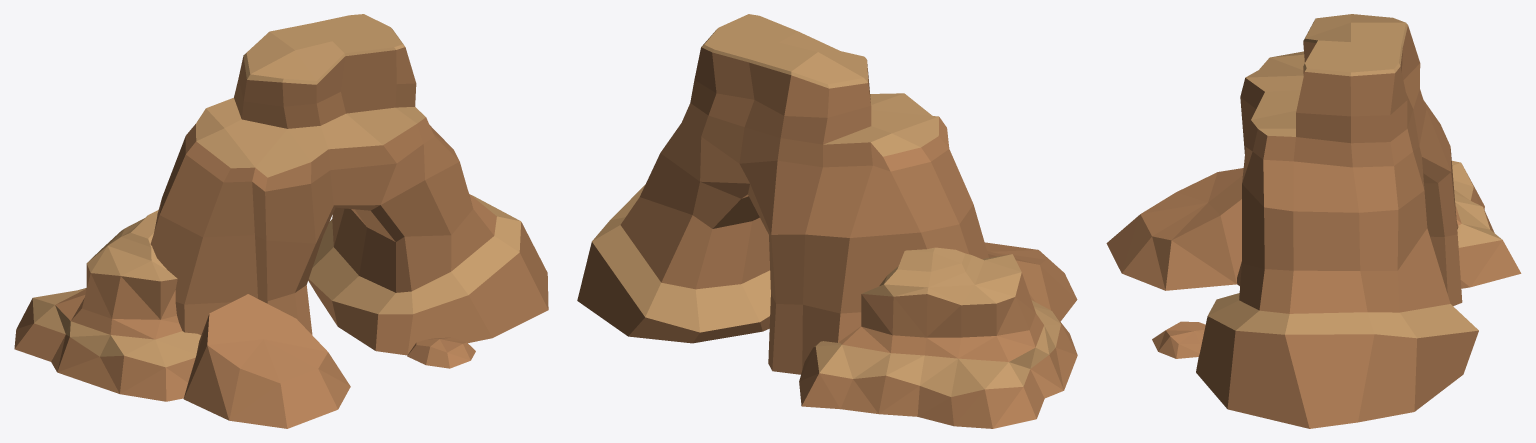
The model's file is Mountain_2.fbx.
3 renders of one model, left to right at view 1: azimuth 30°, elevation 25°; view 2: azimuth 150°, elevation 25°; view 3: azimuth 270°, elevation 25°, orthographic. The views are drawn at different scales.
Parts seen in each view (by area): view 1: Mountain_2; view 2: Mountain_2; view 3: Mountain_2.
Boxes of the visible parts, x1,y1,x2,y2 form: Mountain_2: (14,14,548,428); Mountain_2: (577,14,1077,428); Mountain_2: (1106,14,1521,428).
Size of the model in its own units: 1712 by 1201 by 908.
